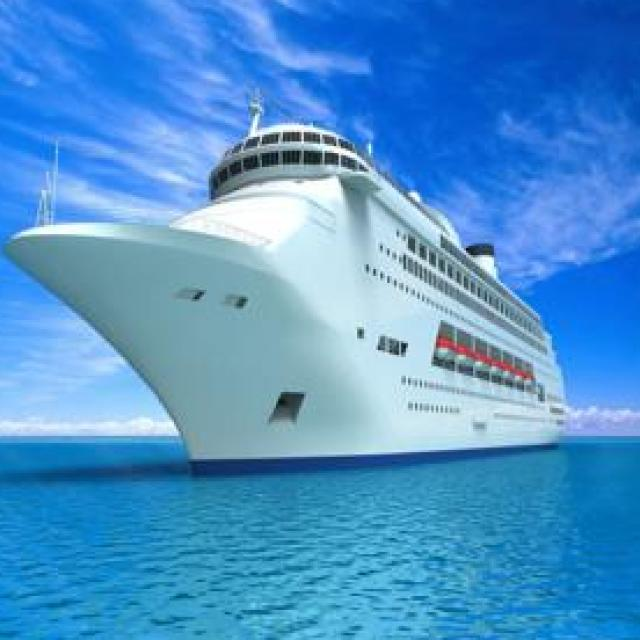passenger ship: (2, 120, 594, 498)
